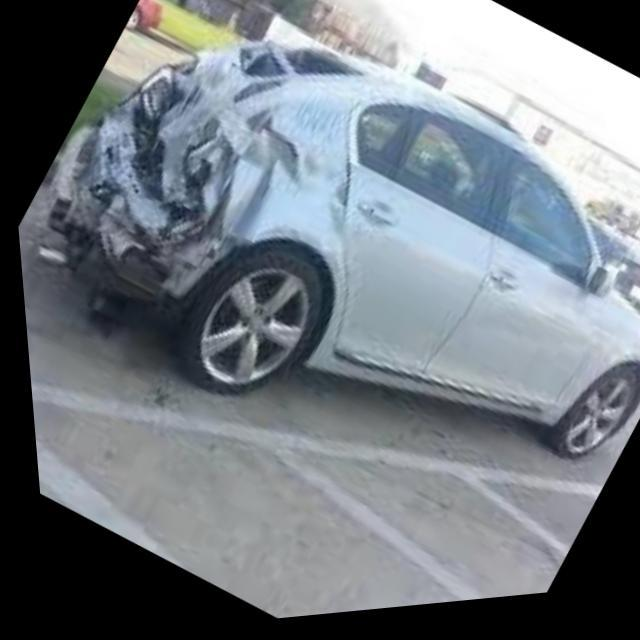crash: (37, 37, 372, 310)
